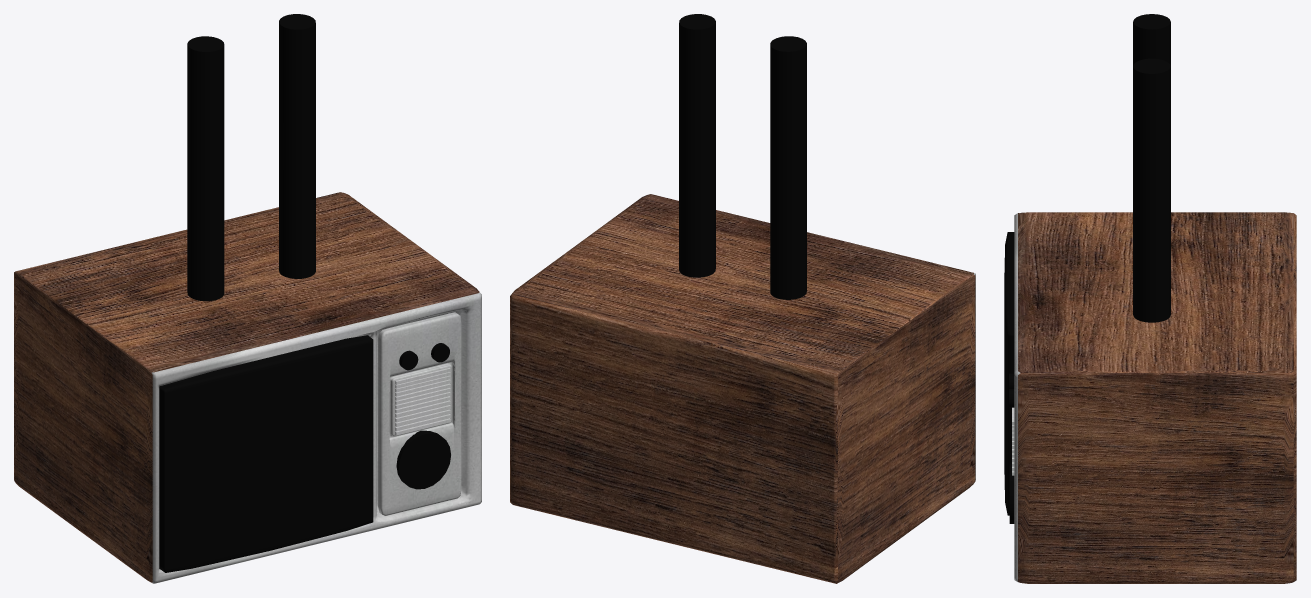
3 renders of one model, left to right at view 1: azimuth 30°, elevation 25°; view 2: azimuth 150°, elevation 25°; view 3: azimuth 270°, elevation 25°, orthographic.
Parts seen in each view (by area): view 1: TV_obj, Con1, Con2, Button2; view 2: TV_obj, Con1, Con2; view 3: TV_obj, Con2, Con1.
Part boxes in pixels (bbox=[...]): TV_obj: bbox=[14, 192, 481, 583]; Con1: bbox=[187, 36, 224, 301]; Con2: bbox=[279, 14, 315, 278]; Button2: bbox=[396, 430, 450, 489]; TV_obj: bbox=[510, 194, 975, 583]; Con1: bbox=[770, 36, 806, 299]; Con2: bbox=[679, 14, 715, 277]; TV_obj: bbox=[1004, 212, 1296, 583]; Con2: bbox=[1133, 58, 1170, 322]; Con1: bbox=[1133, 14, 1170, 65].
Size of the model in its own units: 3.58 by 4.78 by 2.74.
4 materials, 2 textured.
